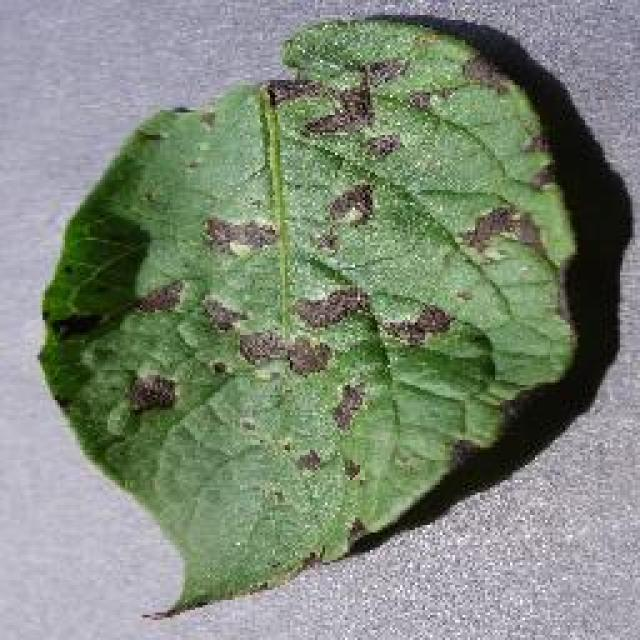Potato___Early_blight: (31, 20, 583, 616)
